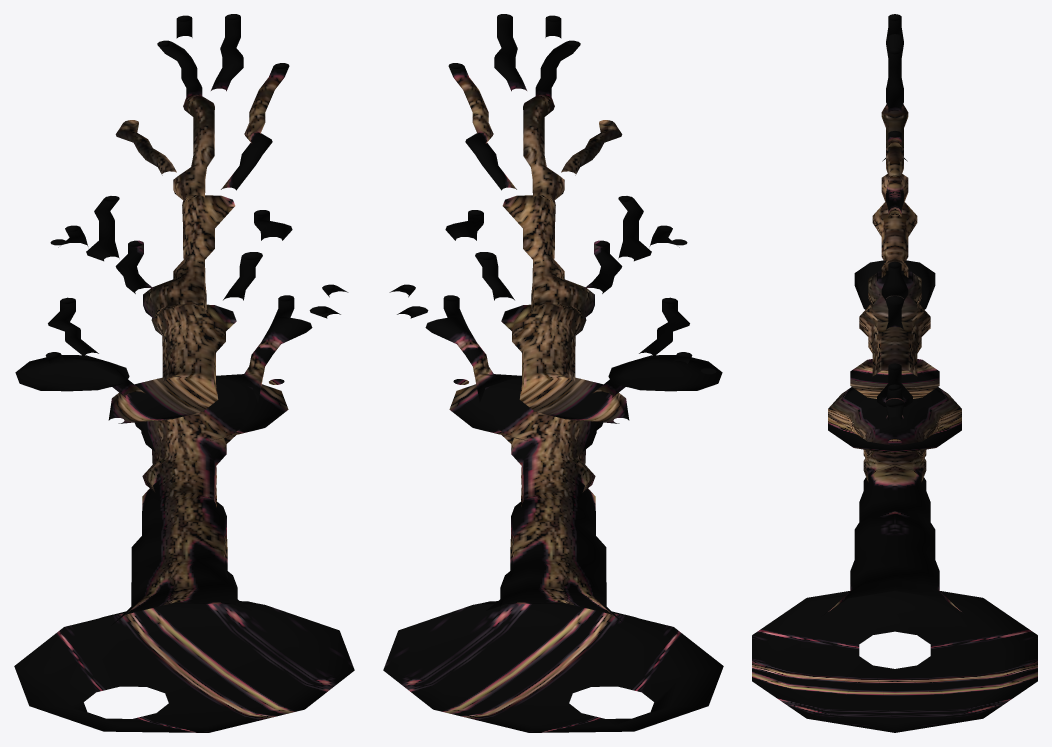
File: dead.glb
3 views of the same model, side by side, from view 1: azimuth 30°, elevation 25°; view 2: azimuth 150°, elevation 25°; view 3: azimuth 270°, elevation 25° (orthographic).
Parts seen in each view (by area): view 1: solid; view 2: solid; view 3: solid.
Part boxes in pixels (box(x1,y1,x2,y2)): solid: box(14, 14, 354, 732); solid: box(383, 14, 723, 732); solid: box(752, 14, 1037, 732).
Size of the model in its own units: 0.5152 by 1 by 0.392.
Materials: 1 (1 with a texture image).
